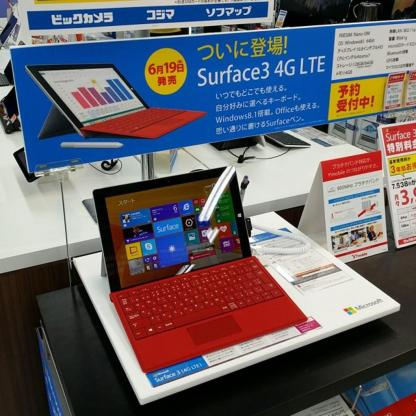board: (93, 163, 300, 371), (26, 65, 206, 137), (0, 41, 26, 87), (0, 16, 17, 47)
